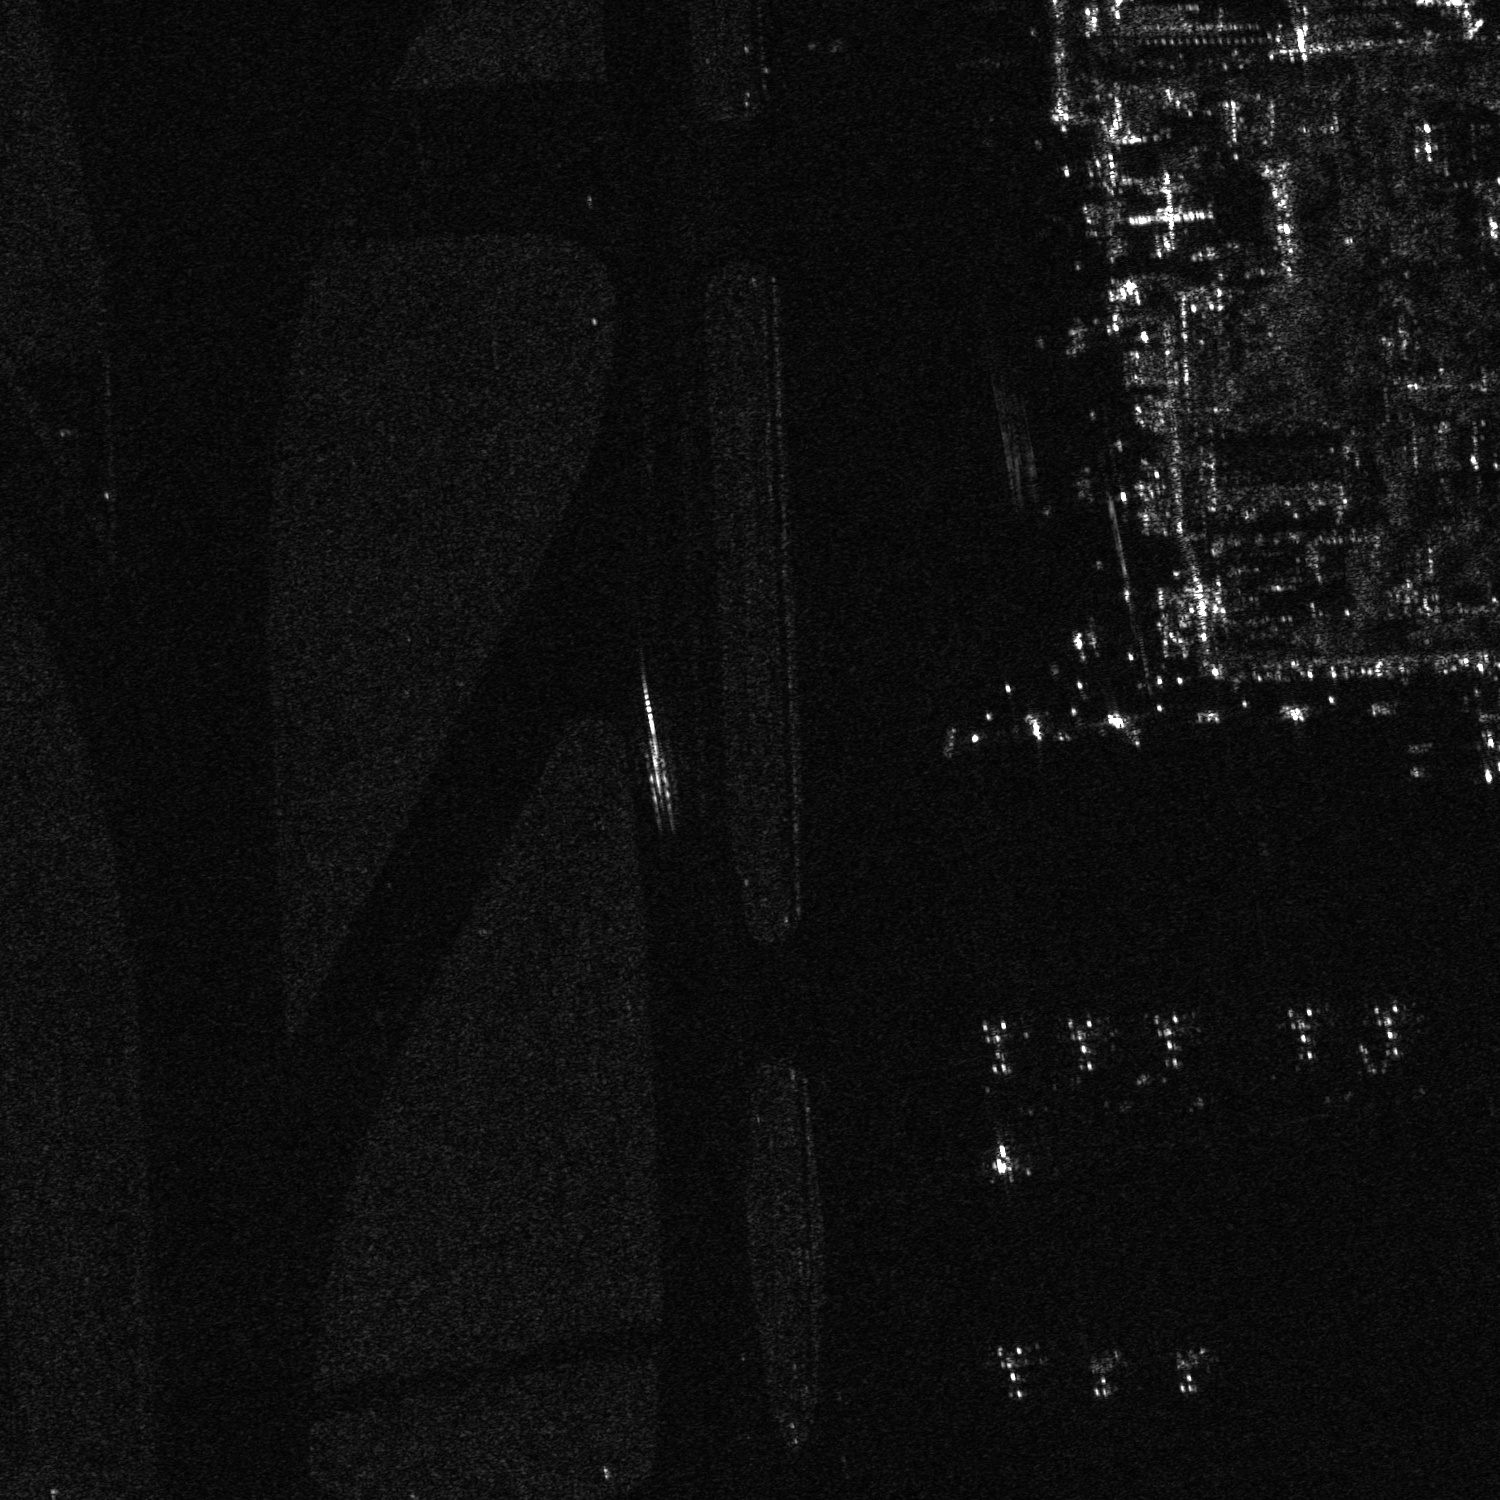A220: (1081, 1346, 1126, 1405)
A320/321: (1158, 1342, 1210, 1404)
ARJ21: (989, 1343, 1049, 1407), (1457, 709, 1499, 786), (985, 1128, 1033, 1181)
other: (1055, 1012, 1104, 1081), (1148, 1007, 1196, 1071), (1365, 999, 1413, 1063), (1276, 1005, 1326, 1065), (978, 1014, 1016, 1078), (804, 26, 859, 65)
